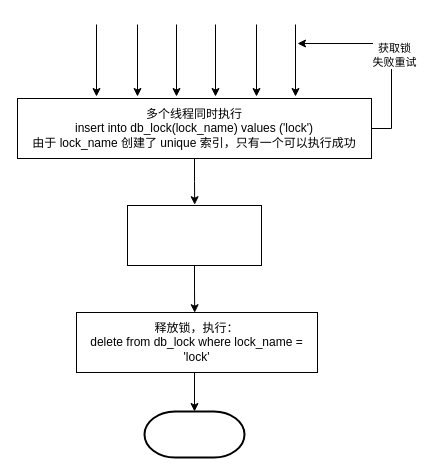
The diagram is 433 pixels wide and 476 high, and some of its shapes have lost their labels. Each missing label, with the centre of its shape:
结束: [194,434]
获取到锁执行业务逻辑: [194,235]
